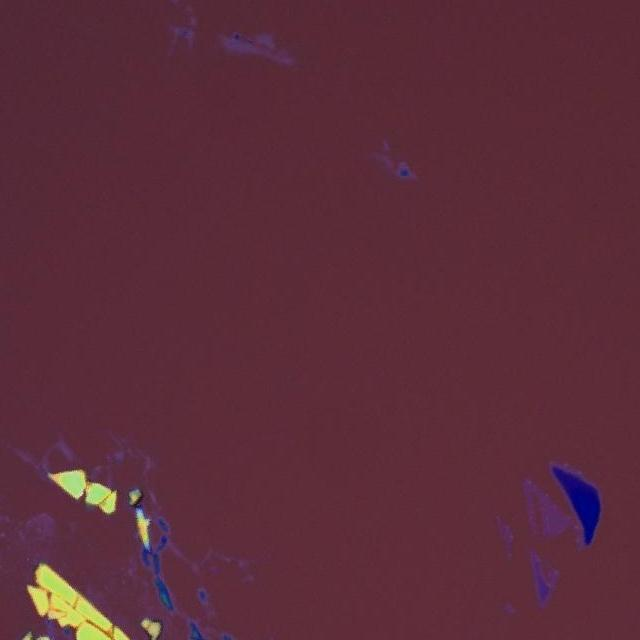monolayer-eWW4: (522, 477, 574, 538)
